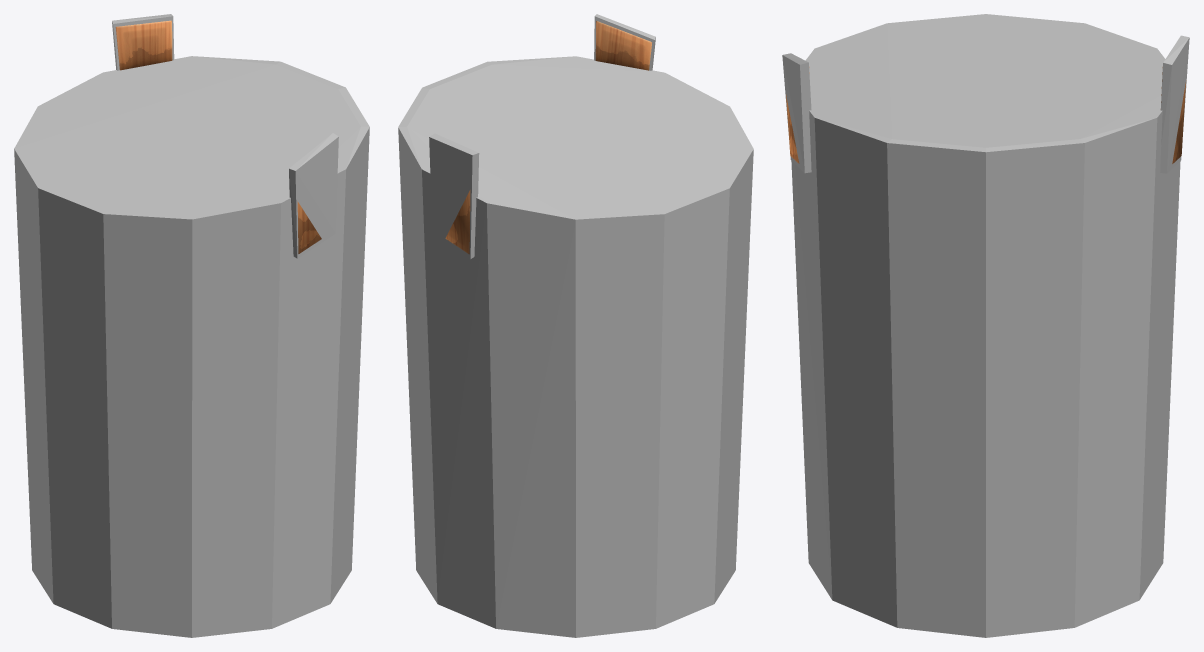
The model's file is SM_BarrelWooden02_2.fbx.
3 renders of one model, left to right at view 1: azimuth 30°, elevation 25°; view 2: azimuth 150°, elevation 25°; view 3: azimuth 270°, elevation 25°, orthographic. The views are drawn at different scales.
Visible parts, largest first — view 1: SM_BarrelWooden02_2_ConvexHulls, SM_BarrelWooden02_2; view 2: SM_BarrelWooden02_2_ConvexHulls, SM_BarrelWooden02_2; view 3: SM_BarrelWooden02_2_ConvexHulls, SM_BarrelWooden02_2.
Part boxes in pixels (<box>): SM_BarrelWooden02_2_ConvexHulls: <box>14,14,369,637</box>; SM_BarrelWooden02_2: <box>115,20,321,253</box>; SM_BarrelWooden02_2_ConvexHulls: <box>398,14,753,637</box>; SM_BarrelWooden02_2: <box>445,21,651,254</box>; SM_BarrelWooden02_2_ConvexHulls: <box>782,14,1189,637</box>; SM_BarrelWooden02_2: <box>786,67,1186,163</box>.
Size of the model in its own units: 72.99 by 75.42 by 109.
2 materials, 1 textured.
